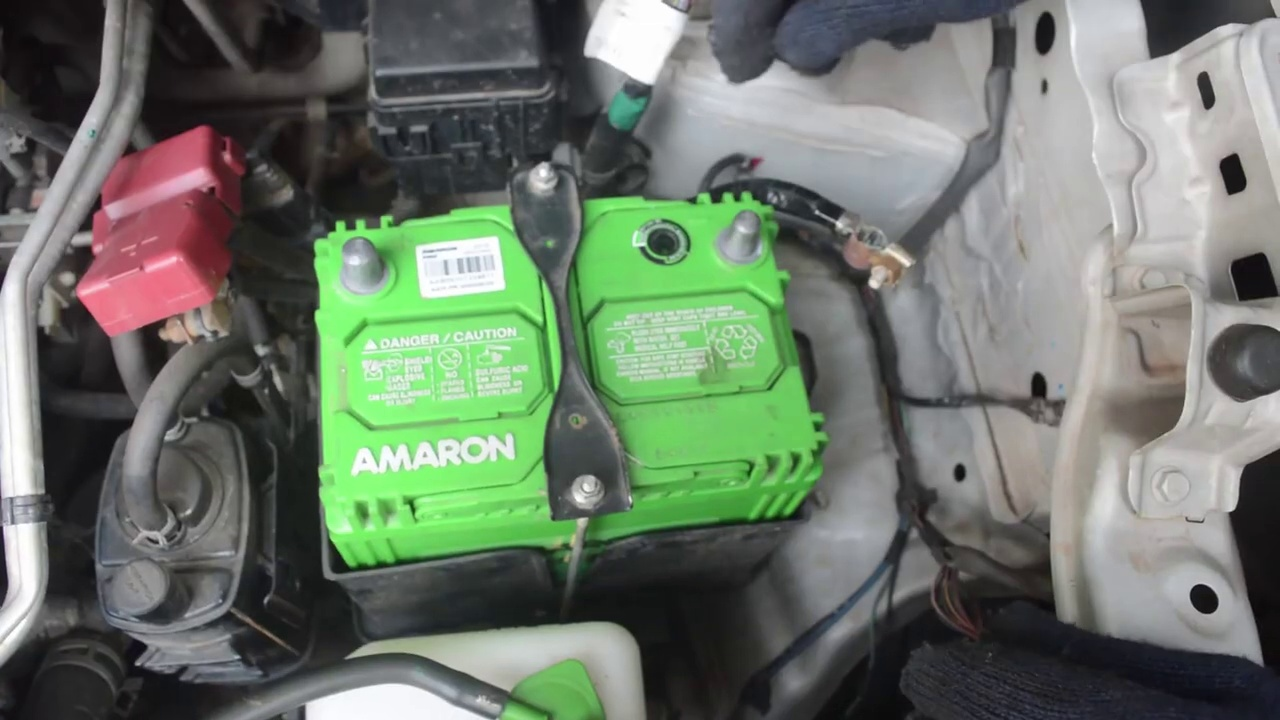battery: (318, 212, 815, 510)
neg_disconnected: (678, 175, 801, 291)
pos_disconnected: (68, 135, 391, 320)
